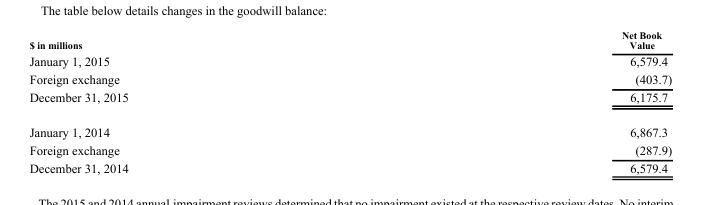table: (28, 29, 671, 174)
table column: (28, 29, 374, 174), (374, 29, 671, 174)
table column header: (28, 29, 671, 52)
table row: (28, 87, 671, 114), (28, 114, 671, 140), (28, 29, 671, 52), (28, 69, 671, 87), (28, 140, 671, 158), (28, 52, 671, 69), (28, 158, 671, 174)
